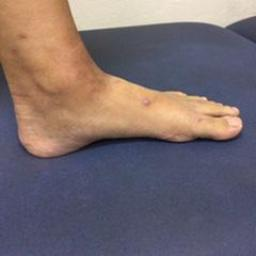Medial View -Left Foot-: (1, 46, 245, 175)
